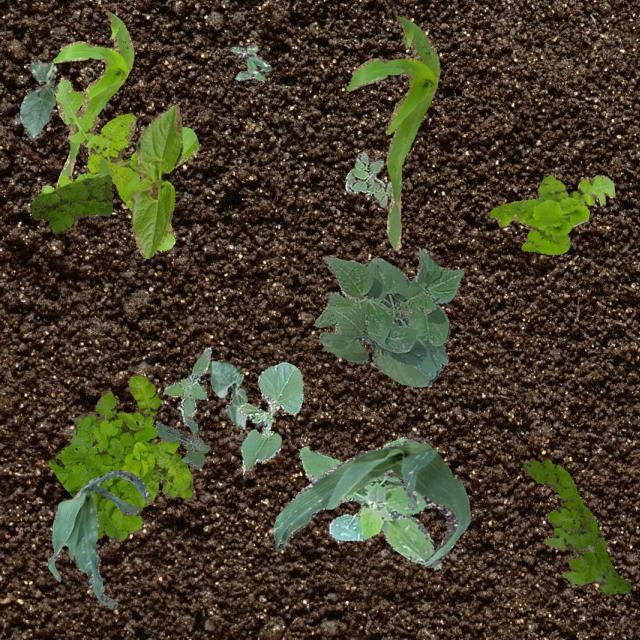crop: (272, 436, 469, 566), (346, 15, 438, 248), (312, 247, 462, 386), (48, 468, 148, 608), (51, 9, 132, 176), (130, 102, 180, 258), (238, 362, 302, 471), (18, 58, 56, 138), (208, 358, 246, 428)
weed: (41, 77, 198, 250), (48, 372, 192, 540), (298, 436, 440, 568), (522, 458, 630, 594), (488, 174, 614, 254), (30, 174, 111, 232), (162, 346, 210, 424), (154, 416, 208, 468), (344, 150, 392, 207), (228, 44, 270, 80)
